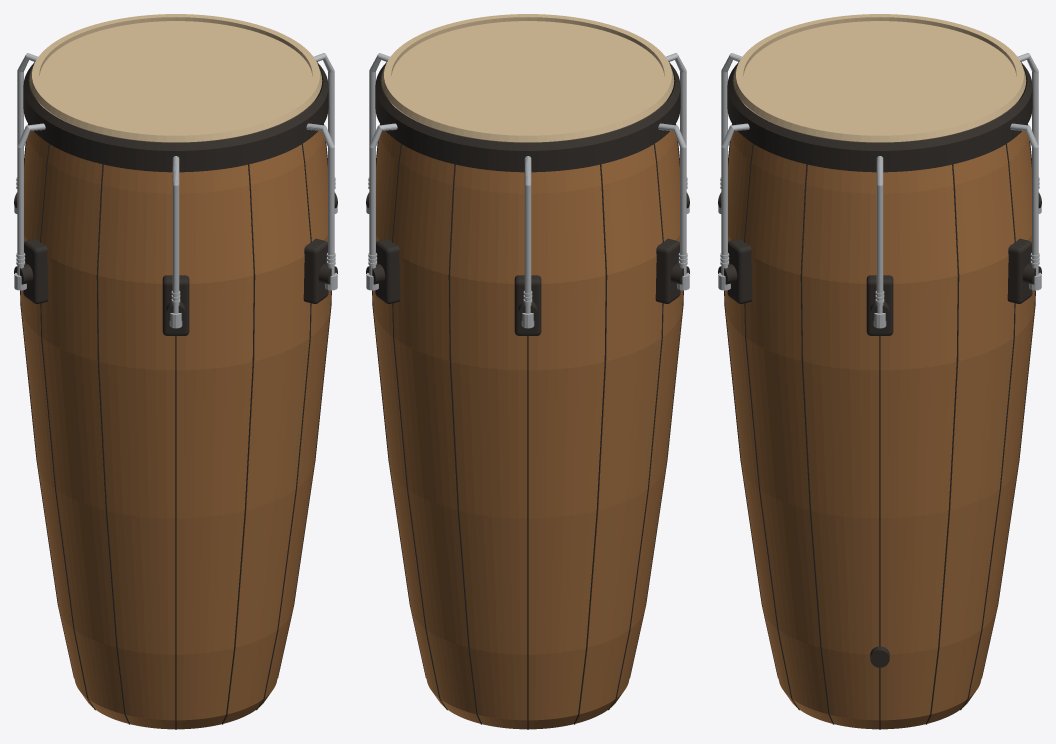
Rendered from full.glb.
3 views of the same model, side by side, from view 1: azimuth 30°, elevation 25°; view 2: azimuth 150°, elevation 25°; view 3: azimuth 270°, elevation 25° (orthographic).
Visible parts, largest first — view 1: Open bottom hollow stave shell, Taut circular head, Thick dark tension hoop, Rolled skin edge, Angular side lug 3, Angular side lug 5, Hooked tension rod 4, Stave seam 7, Stave seam 9, Angular side lug 4, Hooked tension rod 5, Hooked tension rod 3 (+7 smaller); view 2: Open bottom hollow stave shell, Taut circular head, Thick dark tension hoop, Rolled skin edge, Angular side lug 1, Angular side lug 3, Hooked tension rod 2, Stave seam 5, Stave seam 3, Angular side lug 2, Hooked tension rod 1, Hooked tension rod 3 (+7 smaller); view 3: Open bottom hollow stave shell, Taut circular head, Thick dark tension hoop, Rolled skin edge, Angular side lug 1, Angular side lug 5, Hooked tension rod 0, Stave seam 1, Stave seam 11, Angular side lug 0, Hooked tension rod 1, Hooked tension rod 5 (+7 smaller).
Boxes of the visible parts, <box> form: Open bottom hollow stave shell: <box>21,99,330,729</box>; Taut circular head: <box>39,21,312,132</box>; Thick dark tension hoop: <box>23,61,328,172</box>; Rolled skin edge: <box>29,14,322,142</box>; Angular side lug 3: <box>23,238,48,303</box>; Angular side lug 5: <box>303,238,328,303</box>; Hooked tension rod 4: <box>172,156,179,313</box>; Stave seam 7: <box>96,164,129,724</box>; Stave seam 9: <box>222,164,255,724</box>; Angular side lug 4: <box>162,275,189,335</box>; Hooked tension rod 5: <box>306,123,334,275</box>; Hooked tension rod 3: <box>17,123,45,275</box>; Open bottom hollow stave shell: <box>373,99,682,729</box>; Taut circular head: <box>391,21,664,132</box>; Thick dark tension hoop: <box>375,61,680,172</box>; Rolled skin edge: <box>381,14,674,142</box>; Angular side lug 1: <box>375,238,400,303</box>; Angular side lug 3: <box>655,238,680,303</box>; Hooked tension rod 2: <box>524,156,531,313</box>; Stave seam 5: <box>574,164,607,724</box>; Stave seam 3: <box>448,164,481,724</box>; Angular side lug 2: <box>514,275,541,335</box>; Hooked tension rod 1: <box>369,123,397,275</box>; Hooked tension rod 3: <box>658,123,686,275</box>; Open bottom hollow stave shell: <box>725,99,1034,729</box>; Taut circular head: <box>743,21,1016,132</box>; Thick dark tension hoop: <box>727,61,1032,172</box>; Rolled skin edge: <box>733,14,1026,142</box>; Angular side lug 1: <box>1007,238,1032,303</box>; Angular side lug 5: <box>727,238,752,303</box>; Hooked tension rod 0: <box>876,156,883,313</box>; Stave seam 1: <box>926,164,959,724</box>; Stave seam 11: <box>800,164,833,724</box>; Angular side lug 0: <box>866,275,893,335</box>; Hooked tension rod 1: <box>1010,123,1038,275</box>; Hooked tension rod 5: <box>721,123,749,275</box>.
Size of the model in its own units: 0.348 by 0.6364 by 0.3034.
